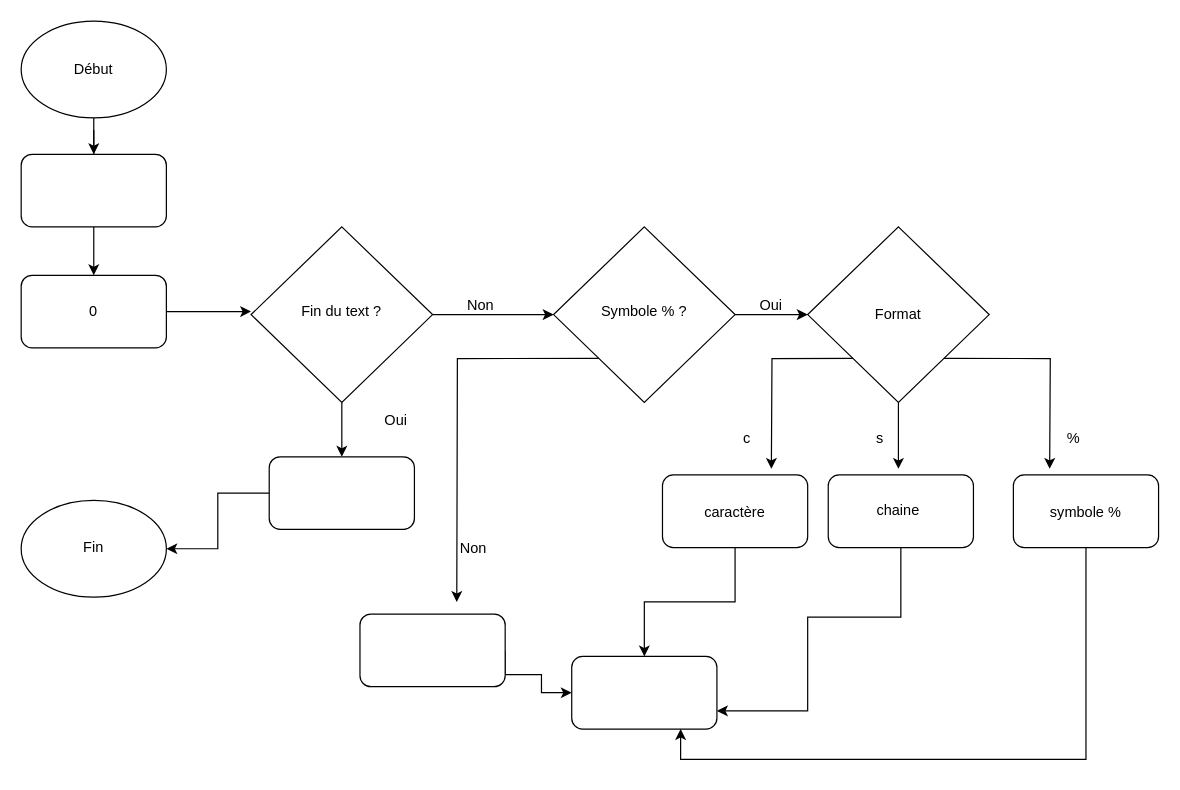
Some shapes in this 1180 by 790 pixel diagram are drawn without their labels. The centre of each missing label's shape, as x and y in pixels:
"Avancer" belongs at (644,692).
"Normal" belongs at (432,650).
"Ternimer" belongs at (341,492).
"Text" belongs at (93,190).
